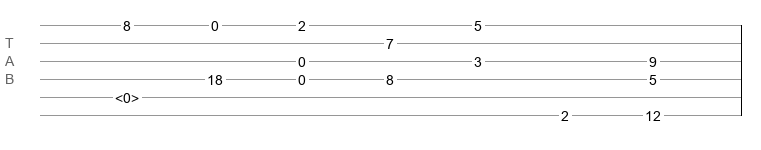0: (211, 18, 219, 28), (298, 54, 306, 64), (298, 72, 306, 82)
12: (645, 108, 661, 118)
18: (207, 72, 223, 82)
2: (298, 18, 306, 28), (561, 108, 569, 118)
3: (474, 54, 482, 64)
5: (474, 18, 482, 28), (649, 72, 657, 82)
7: (386, 36, 394, 46)
8: (123, 18, 131, 28), (386, 72, 394, 82)
9: (649, 54, 657, 64)
harmonic: (115, 90, 139, 100)
